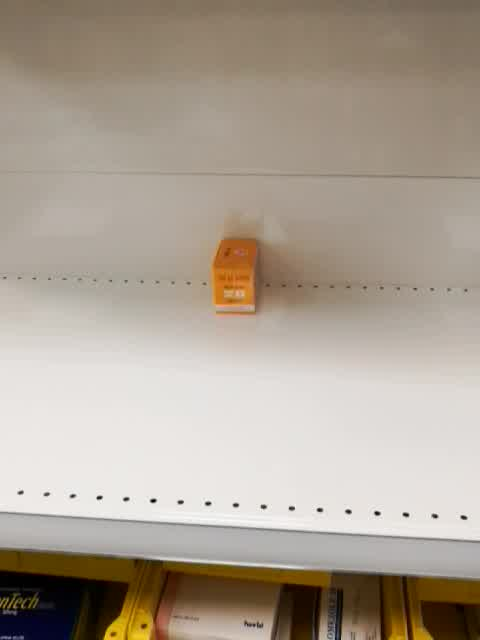jasminetea: (210, 236, 258, 316)
